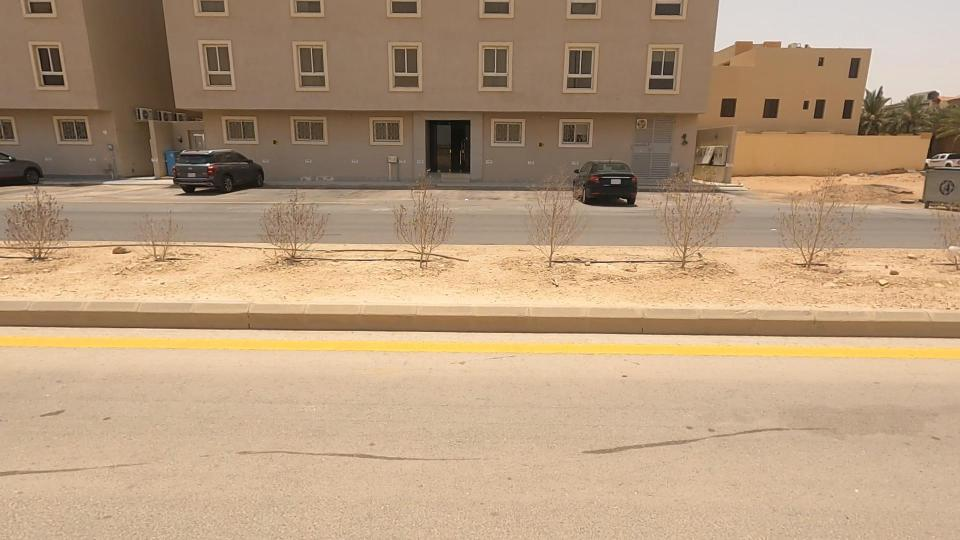GARBAGE: (152, 191, 578, 305)
